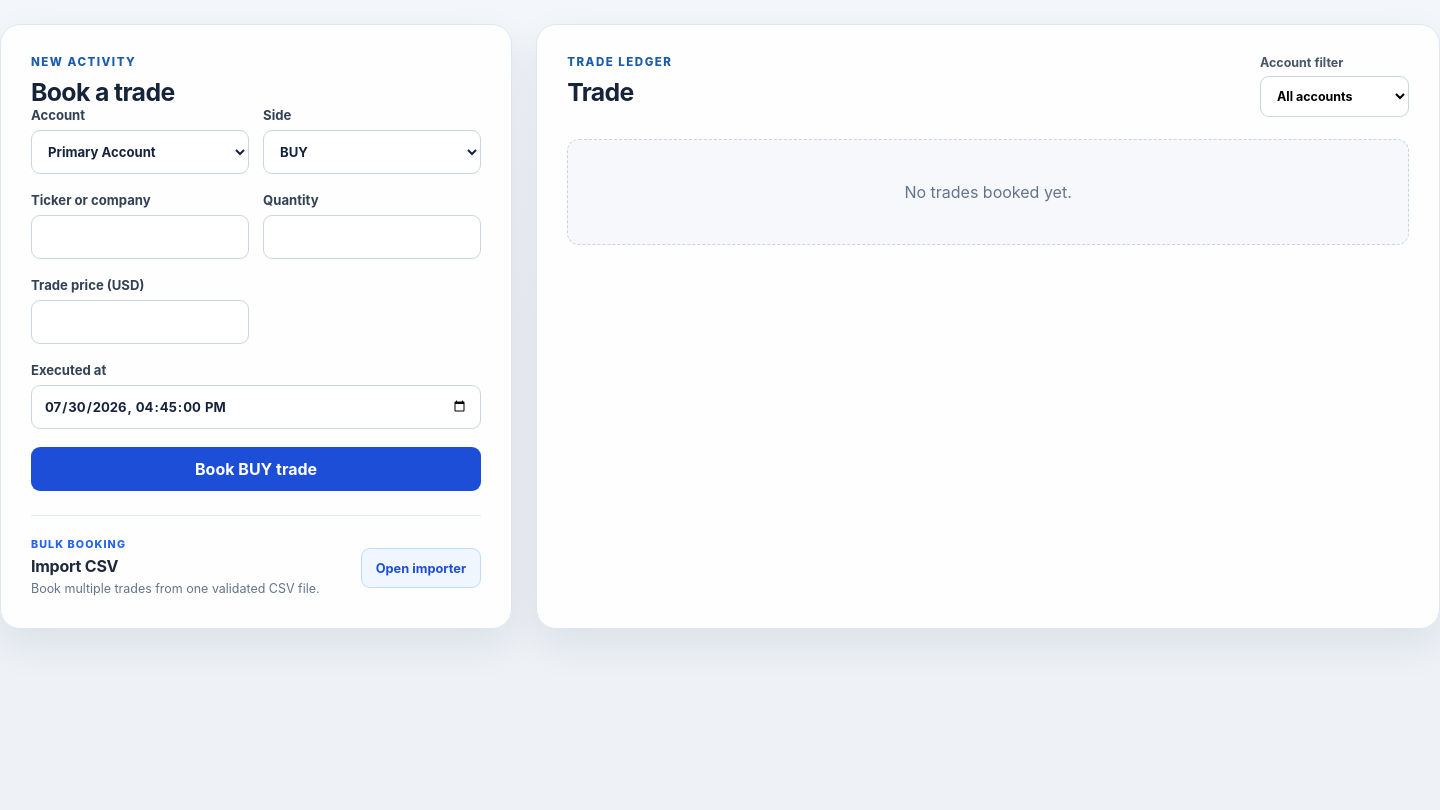
Scenario: multi-account activity › switches to SELL, selects an account and submits the side
The width and height of the screenshot is (1440, 810).
Check: the text "No trades booked yet." is shown, box [567,139,1409,245]
Select "Retirement" in the dropdown labelled "Account" at (140, 152), box [31,130,249,174]
Select "SELL" in the dropdown labelled "Side" at (372, 152), box [263,130,481,174]
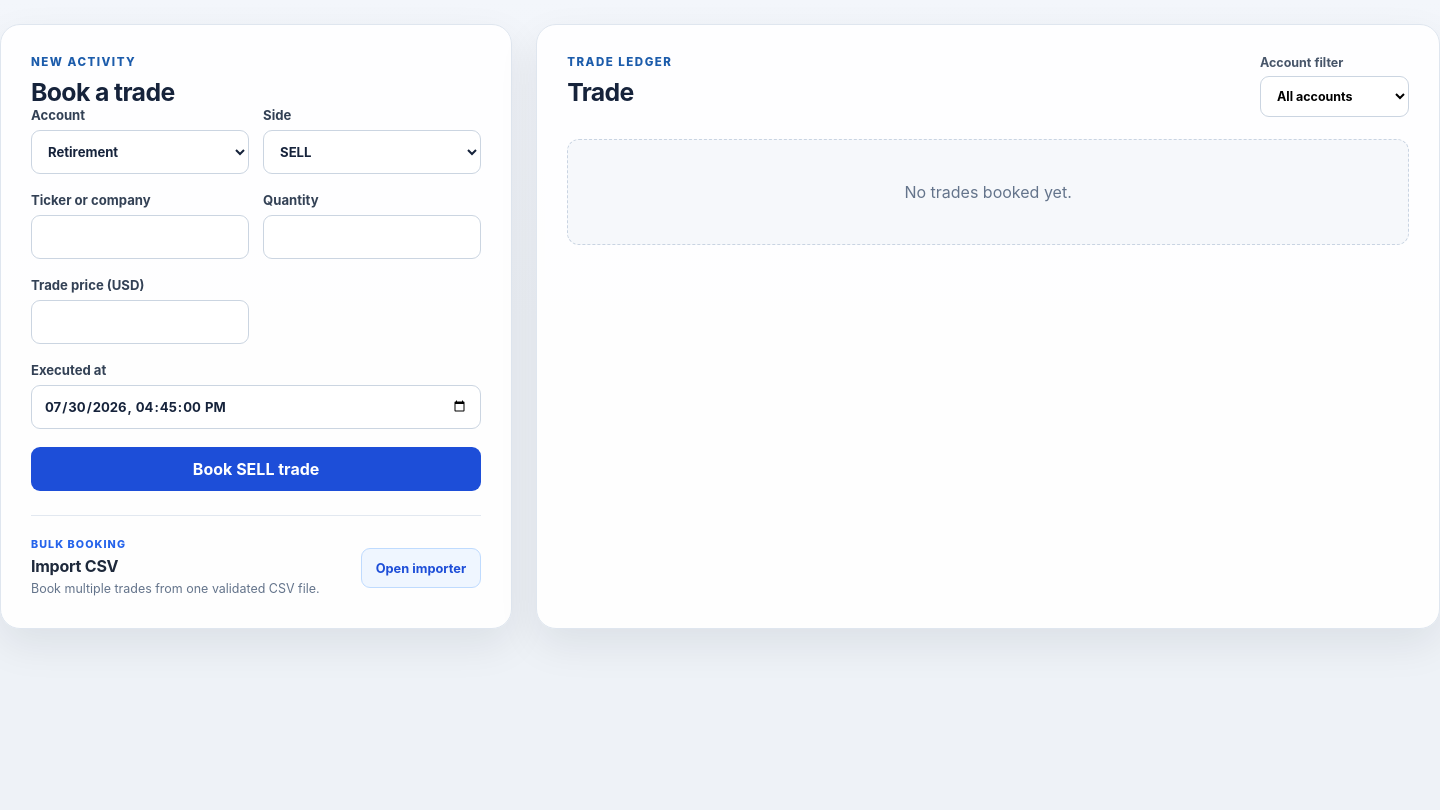
Type "aapl" into the dropdown labelled "Ticker or company" at (140, 237), box [31,215,249,259]
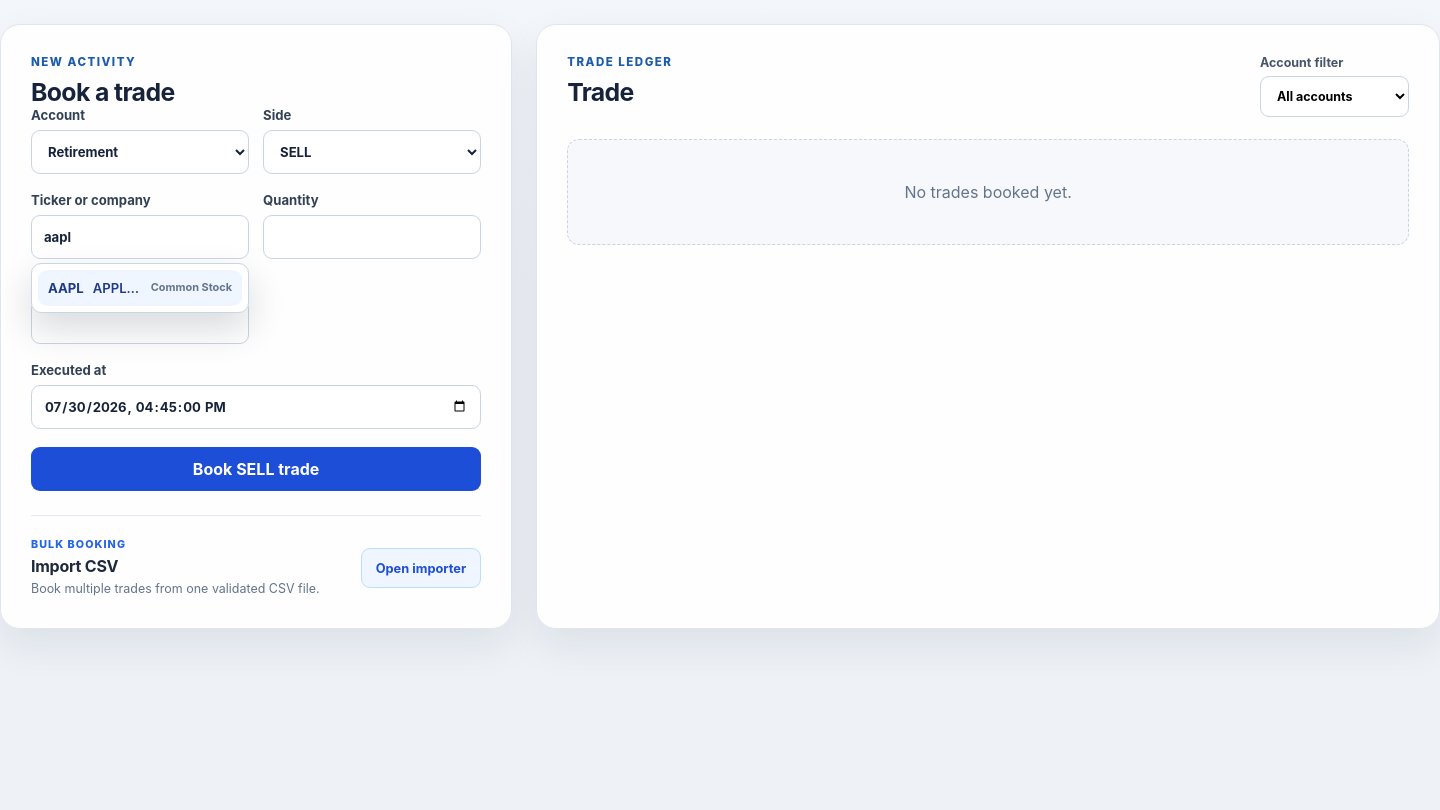
Click the option "AAPL APPLE INC Common Stock" at (140, 288), box [38,270,242,306]
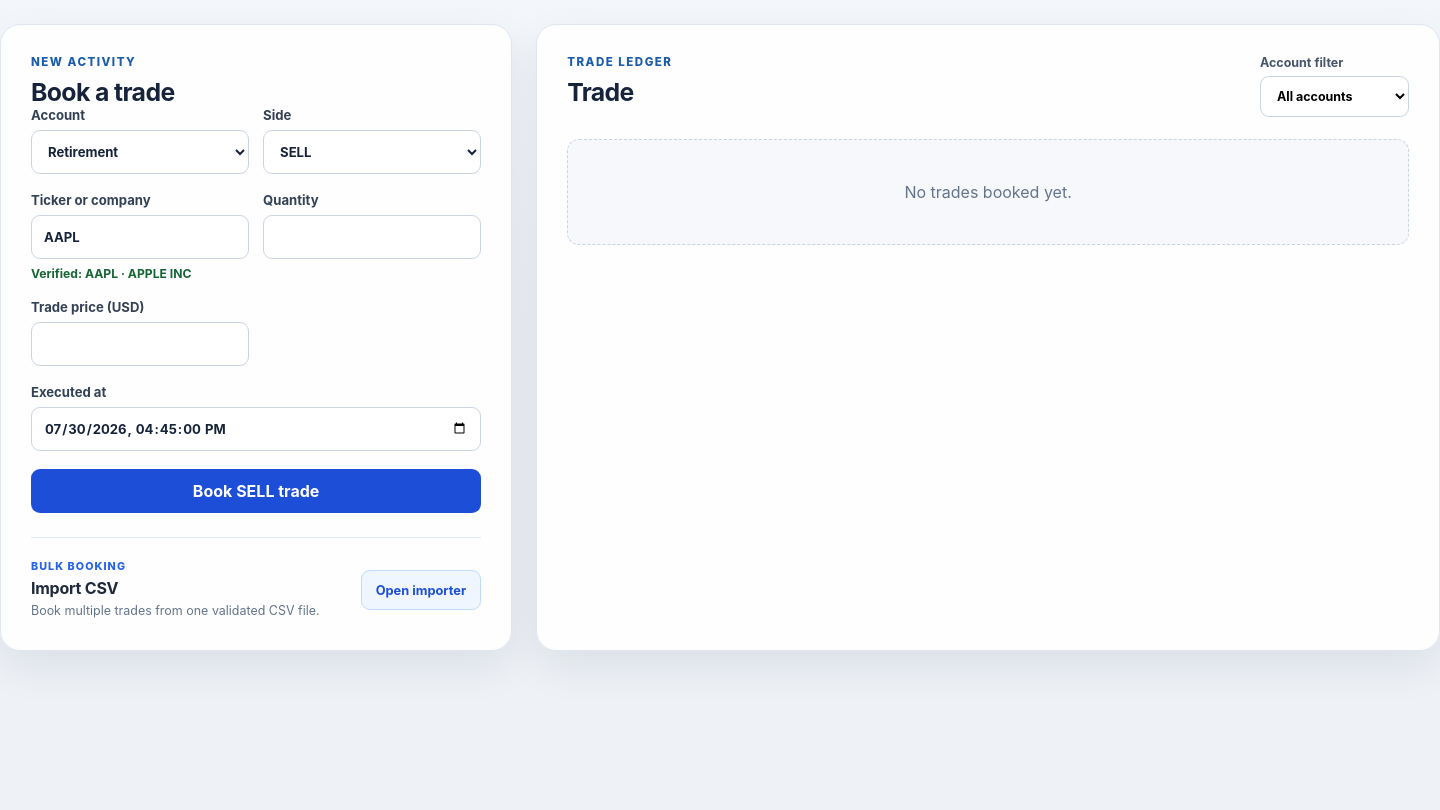
Type "10.5" into the number field labelled "Quantity" at (372, 237), box [263,215,481,259]
Type "195.25" into the number field labelled "Trade price (USD)" at (140, 344), box [31,322,249,366]
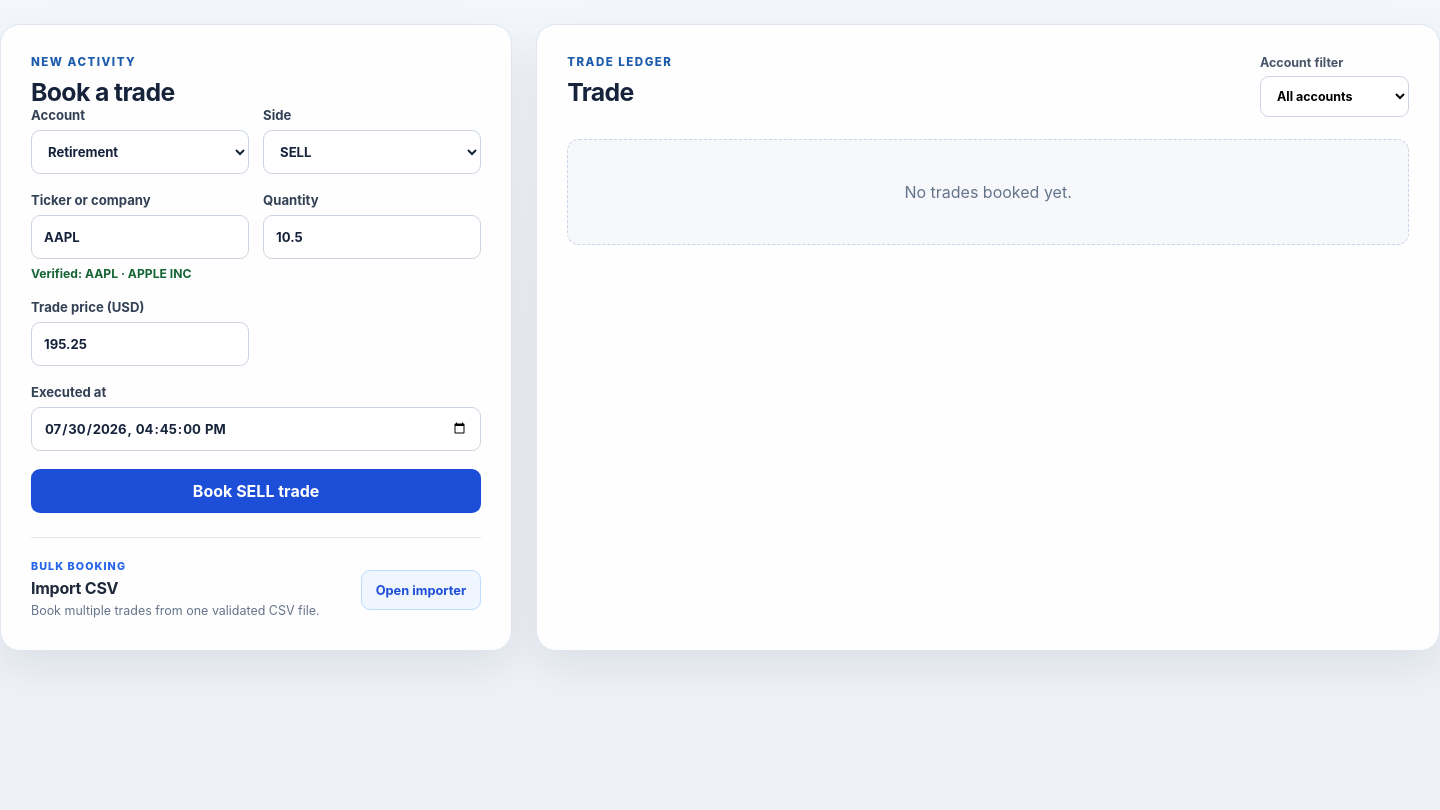
Replace the text in the field labelled "Executed at" with "2026-07-28T14:30" at (256, 429), box [31,407,481,451]
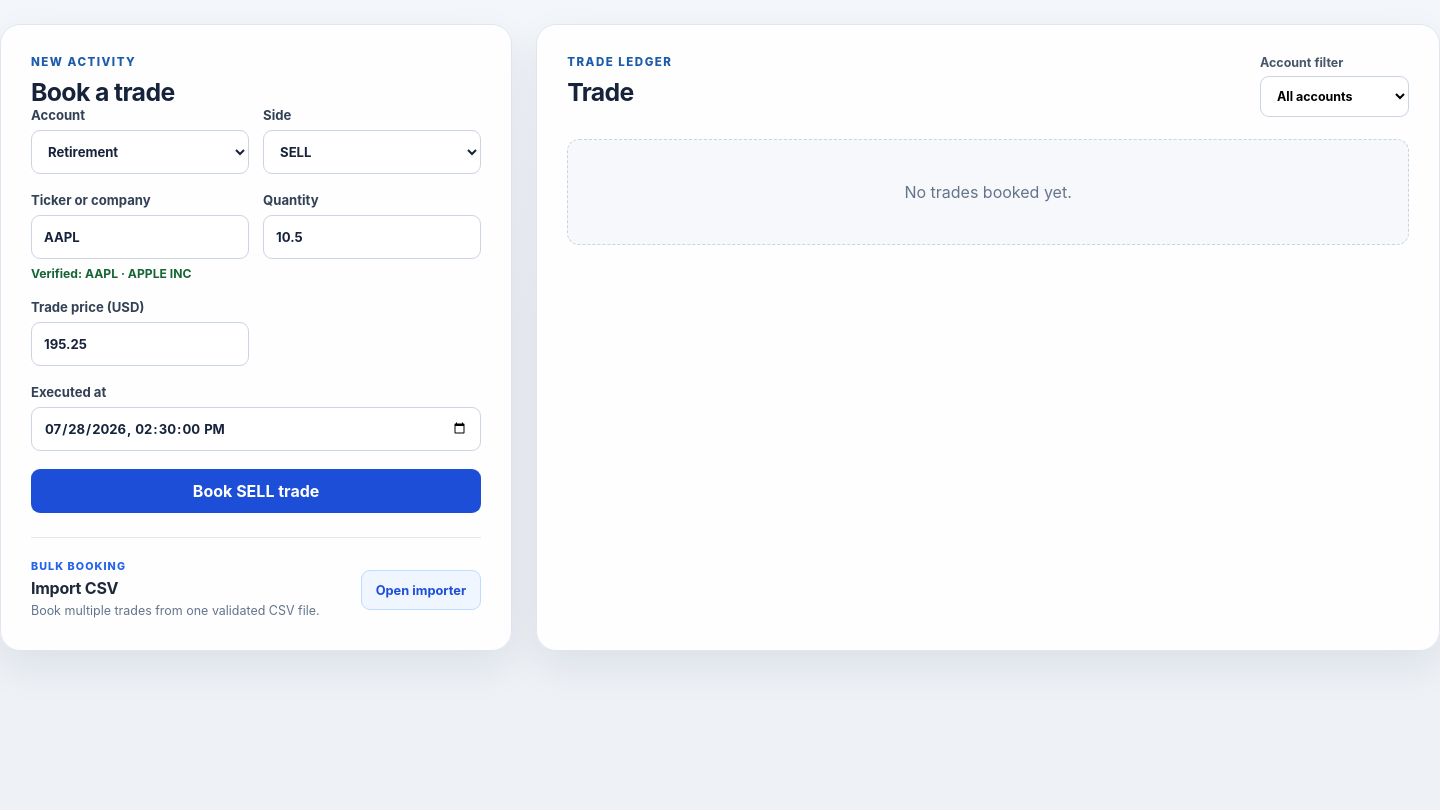
Click the button "Book SELL trade" at (256, 491), box [31,469,481,513]
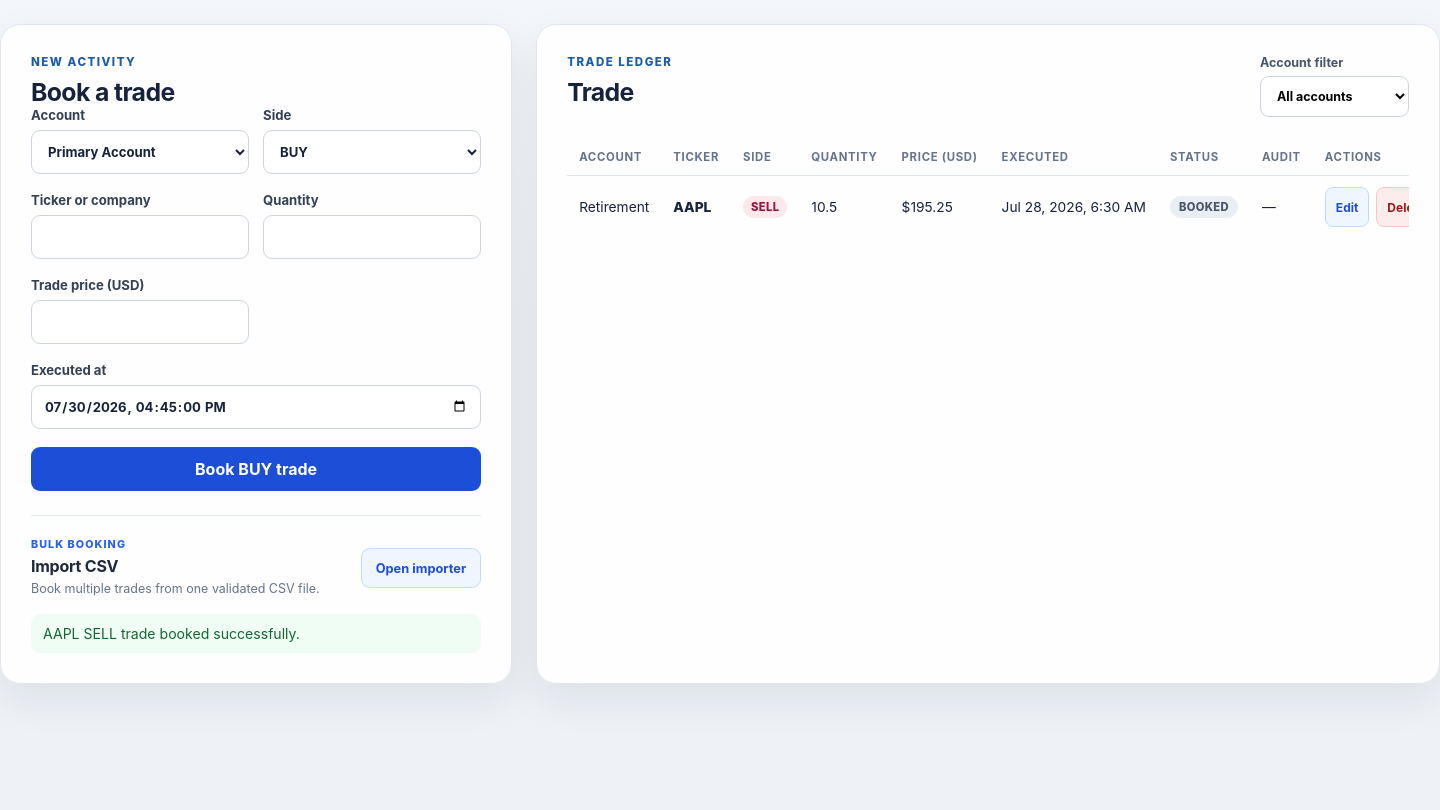
Check: the text "AAPL SELL trade booked successfully." is shown, box [31,614,481,653]
Check: the text "AAPL" is shown, box [661,176,731,238]
